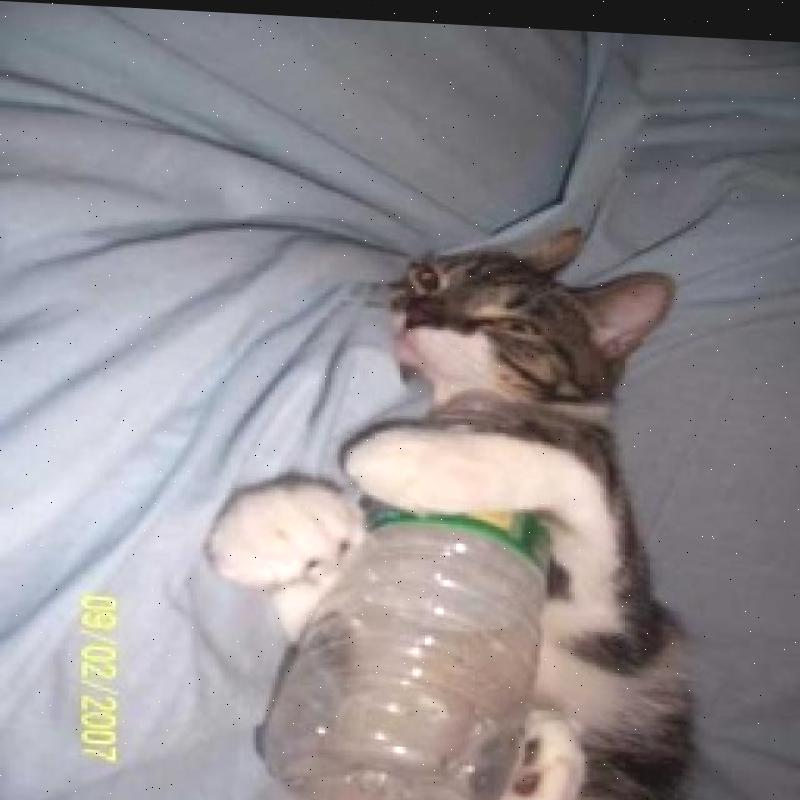botella: (253, 493, 553, 800)
